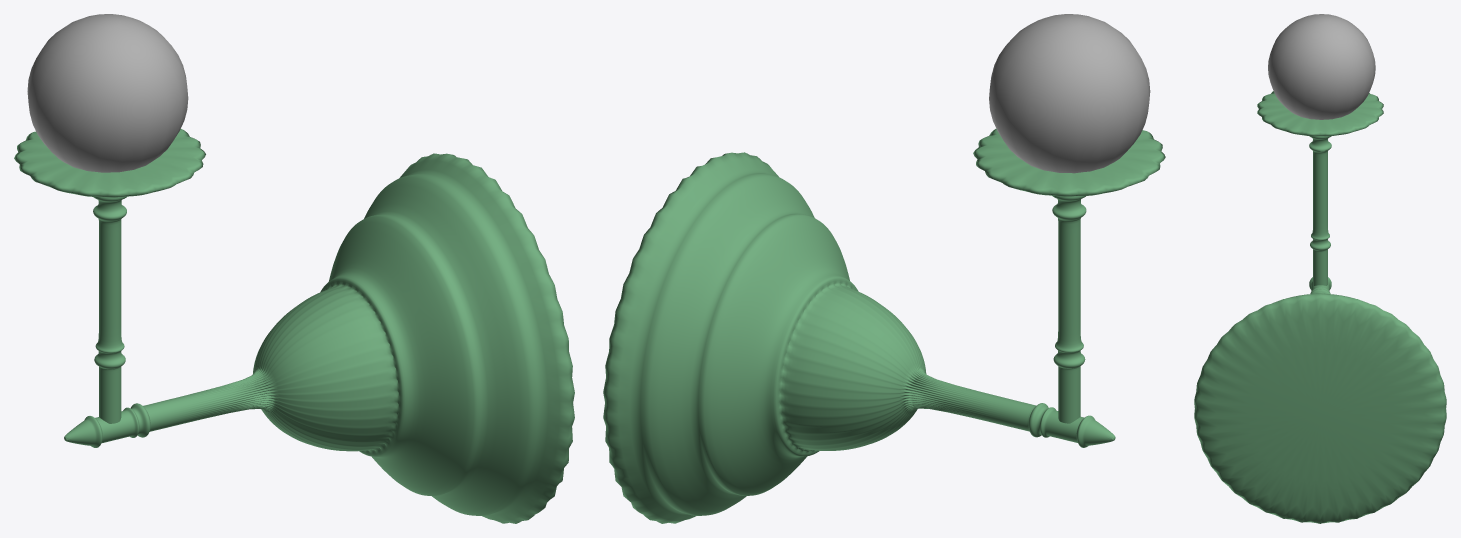
The model's file is scnononone.fbx.
3 views of the same model, side by side, from view 1: azimuth 30°, elevation 25°; view 2: azimuth 150°, elevation 25°; view 3: azimuth 270°, elevation 25° (orthographic). The views are drawn at different scales.
Parts seen in each view (by area): view 1: brass, light; view 2: brass, light; view 3: brass, light.
Part boxes in pixels (<box>): brass: <box>14,129,574,523</box>; light: <box>27,14,188,172</box>; brass: <box>603,128,1165,523</box>; light: <box>989,14,1150,173</box>; brass: <box>1194,91,1446,523</box>; light: <box>1268,14,1375,119</box>.
Bounding box in the file's own units: 25.49 × 30.07 × 17.86.
